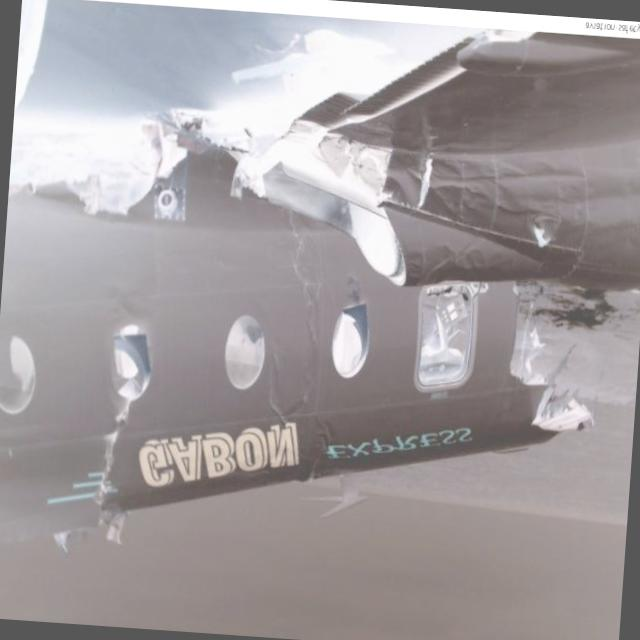crack: (92, 395, 136, 514), (280, 208, 326, 318), (416, 160, 434, 210)
